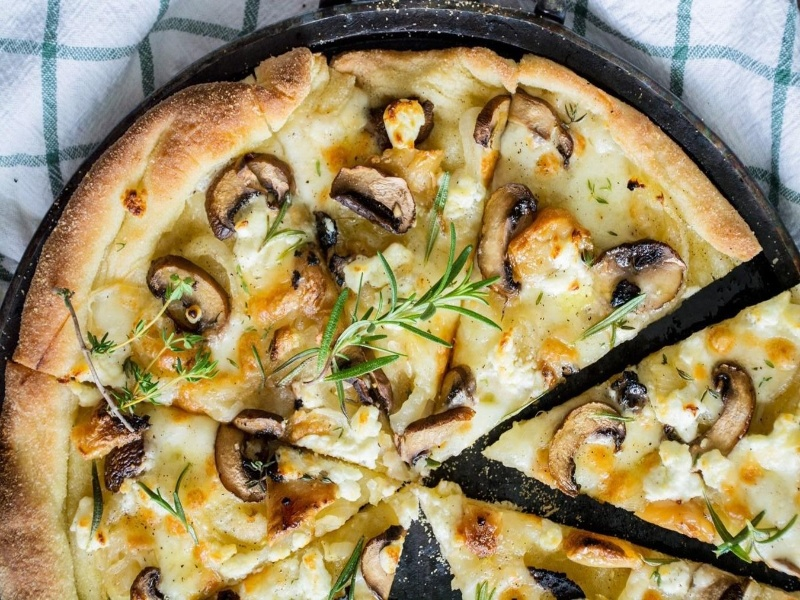champignon: (543, 396, 636, 501), (678, 350, 760, 468), (583, 237, 696, 319), (200, 150, 298, 237), (145, 254, 238, 340), (212, 407, 292, 503), (475, 180, 536, 297), (327, 162, 419, 235)
